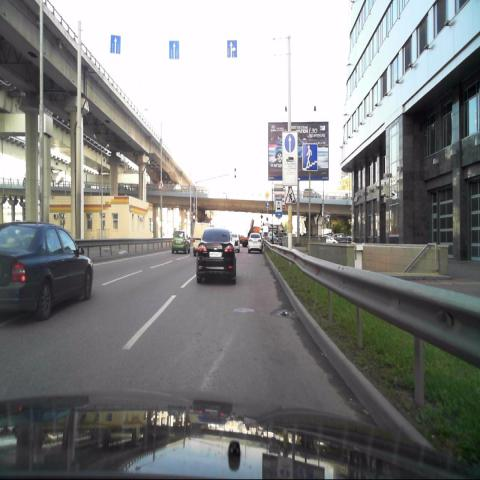6_6: (302, 143, 318, 172)
